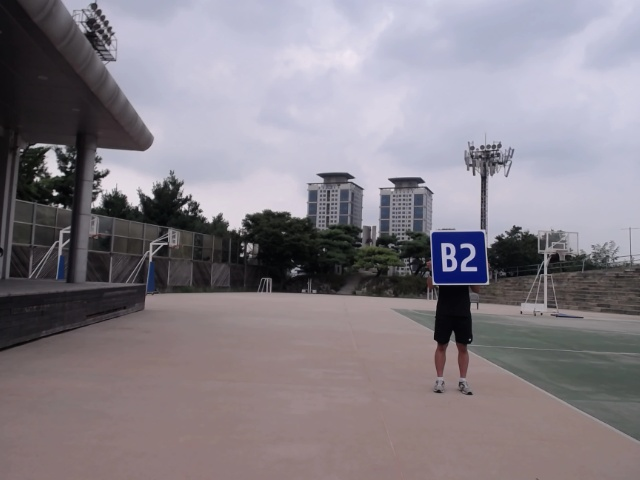delivery_b2: (430, 229, 489, 287)
